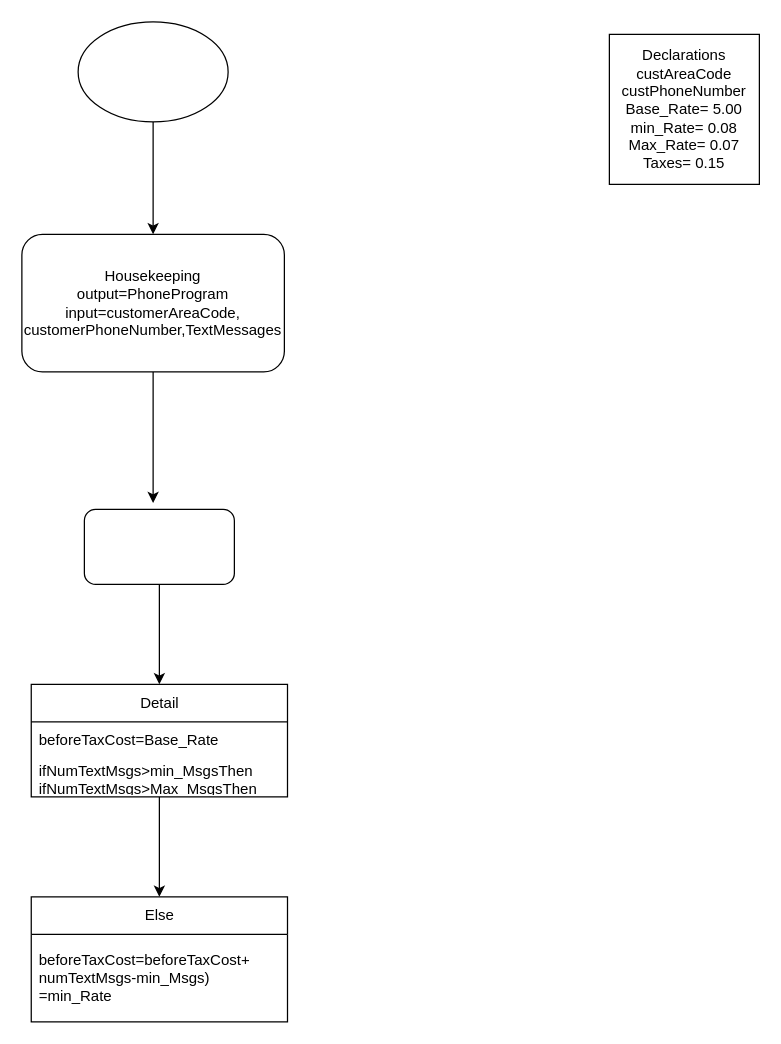
The diagram is 781 pixels wide and 1044 high, and some of its shapes have lost their labels. The centre of each missing label's shape, as x and y in pixels:
"Return" goes at (x=158, y=546).
"Start" goes at (x=152, y=71).
